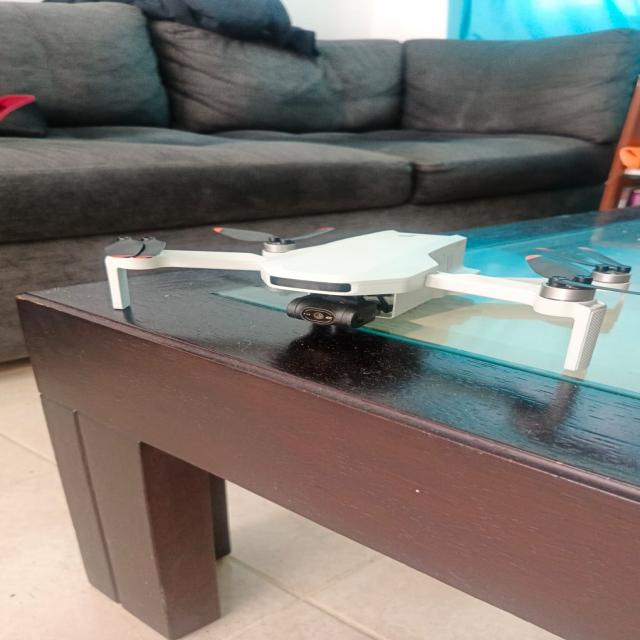dron: (73, 191, 640, 380)
